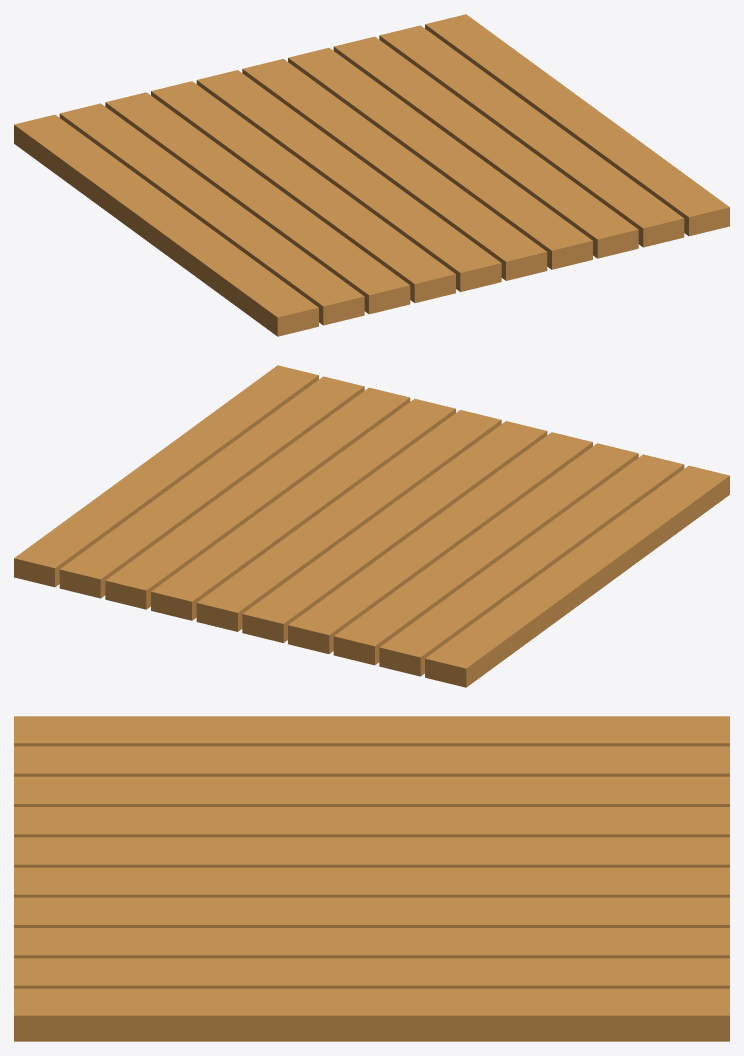
Rendered from trap.fbx.
3 renders of one model, top to bottom at view 1: azimuth 30°, elevation 25°; view 2: azimuth 150°, elevation 25°; view 3: azimuth 270°, elevation 25°, orthographic. The views are drawn at different scales.
Parts seen in each view (by area): view 1: Trap; view 2: Trap; view 3: Trap.
Boxes of the visible parts, <box> form: Trap: <box>14,14,729,336</box>; Trap: <box>14,365,729,687</box>; Trap: <box>14,716,729,1041</box>.
Bounding box in the file's own units: 49.5 × 2 × 50.
